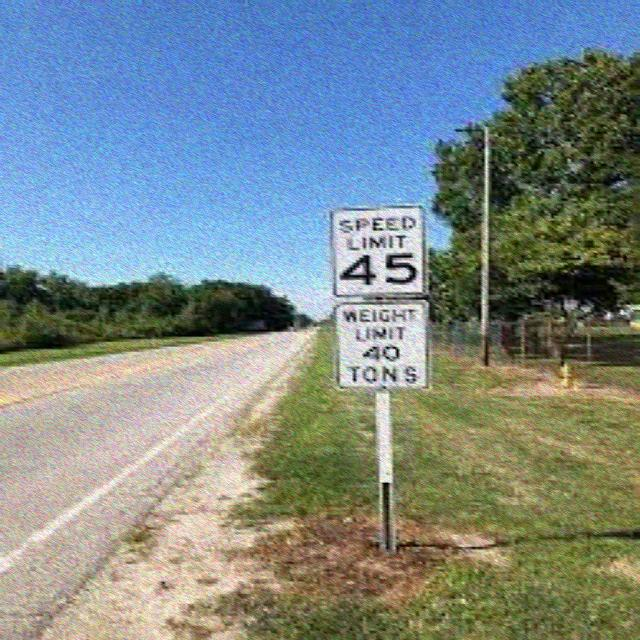speedLimit45: (330, 208, 429, 296)
